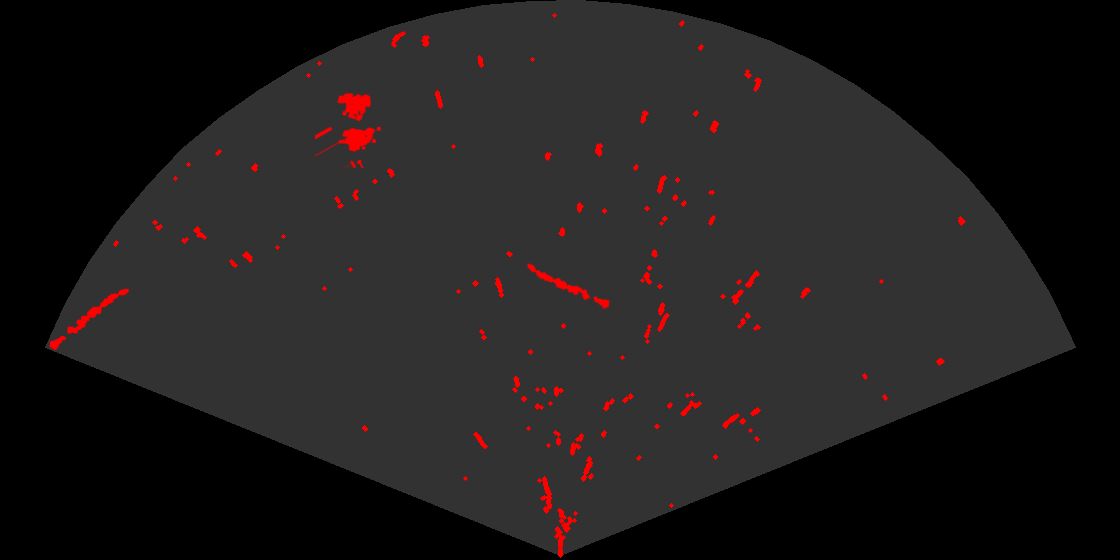cage: (315, 91, 383, 168)
chain: (48, 287, 131, 352), (525, 262, 612, 311)
